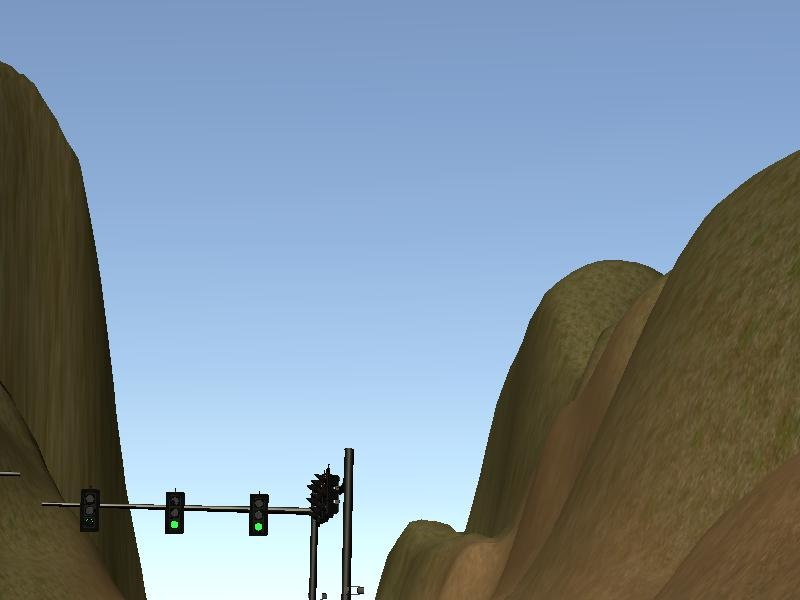green: (165, 492, 187, 536), (248, 493, 270, 536), (82, 490, 101, 534)
